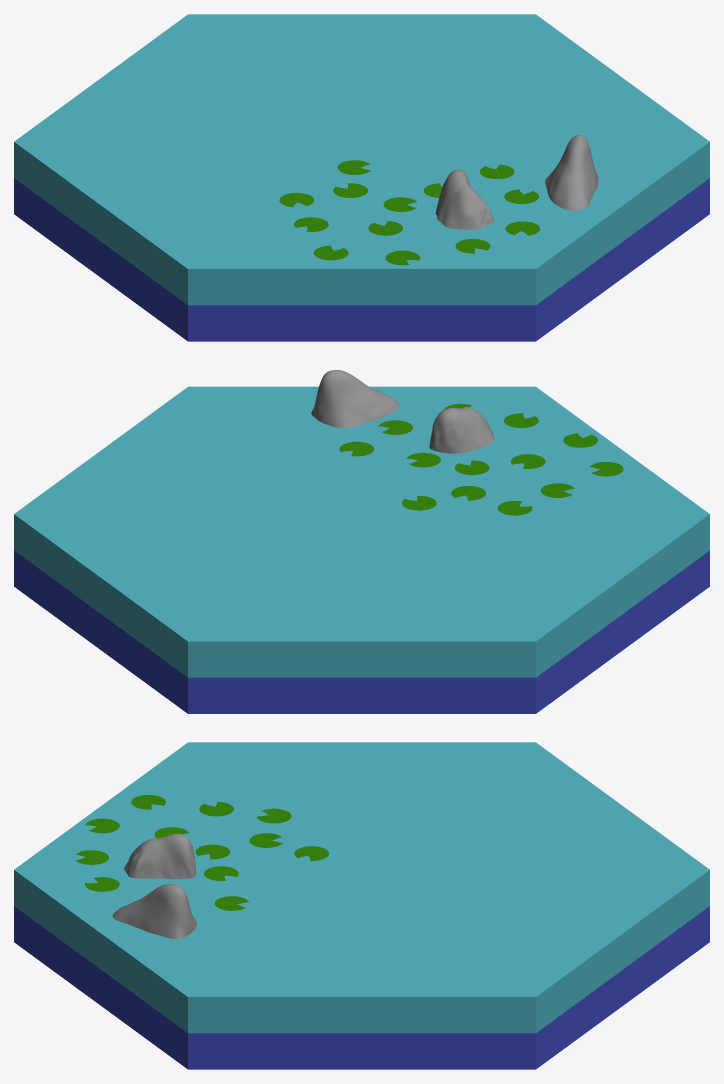
Rendered from Tuile_Eau_N3.fbx.
3 renders of one model, top to bottom at view 1: azimuth 30°, elevation 25°; view 2: azimuth 150°, elevation 25°; view 3: azimuth 270°, elevation 25°, orthographic.
Parts seen in each view (by area): view 1: Niv4, niv1; view 2: Niv4, niv1; view 3: Niv4, niv1.
Part boxes in pixels (x1,y1,x2,y2): Niv4: (14, 14, 709, 341); niv1: (279, 135, 598, 265); Niv4: (14, 386, 709, 713); niv1: (311, 370, 623, 515); Niv4: (14, 742, 709, 1069); niv1: (76, 795, 328, 939).
Size of the model in its own units: 107 by 22.9 by 124.
